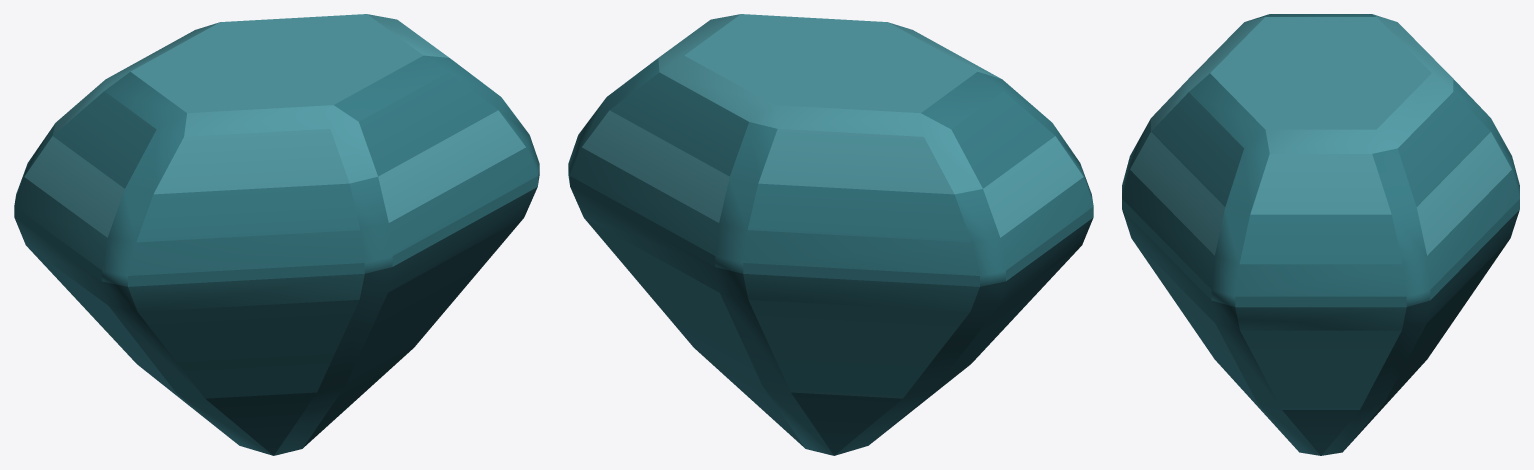
The model's file is Gem_02.glb.
3 renders of one model, left to right at view 1: azimuth 30°, elevation 25°; view 2: azimuth 150°, elevation 25°; view 3: azimuth 270°, elevation 25°, orthographic. The views are drawn at different scales.
Visible parts, largest first — view 1: Gem_02; view 2: Gem_02; view 3: Gem_02.
Boxes of the visible parts, box(x1,y1,x2,y2) form: Gem_02: box(14, 14, 539, 455); Gem_02: box(568, 14, 1093, 455); Gem_02: box(1122, 14, 1519, 455).
Bounding box in the file's own units: 0.873 × 0.7257 × 0.7027.
